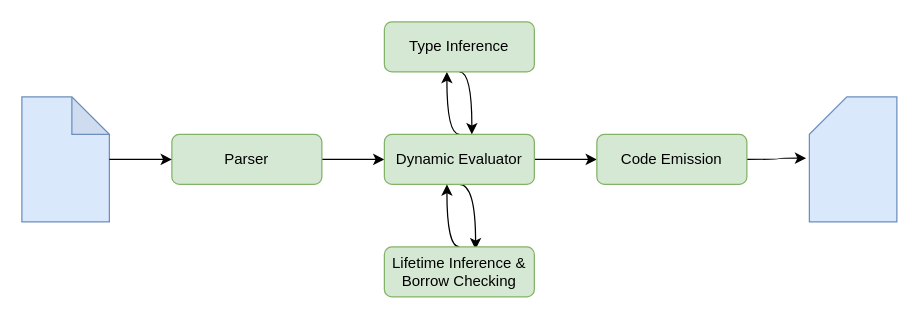
This 919x319 diagram has some shape labels left out. Each missing label, with the centre of its shape:
"Executable" belongs at [852,159].
"Source Code" belongs at [65,159].
